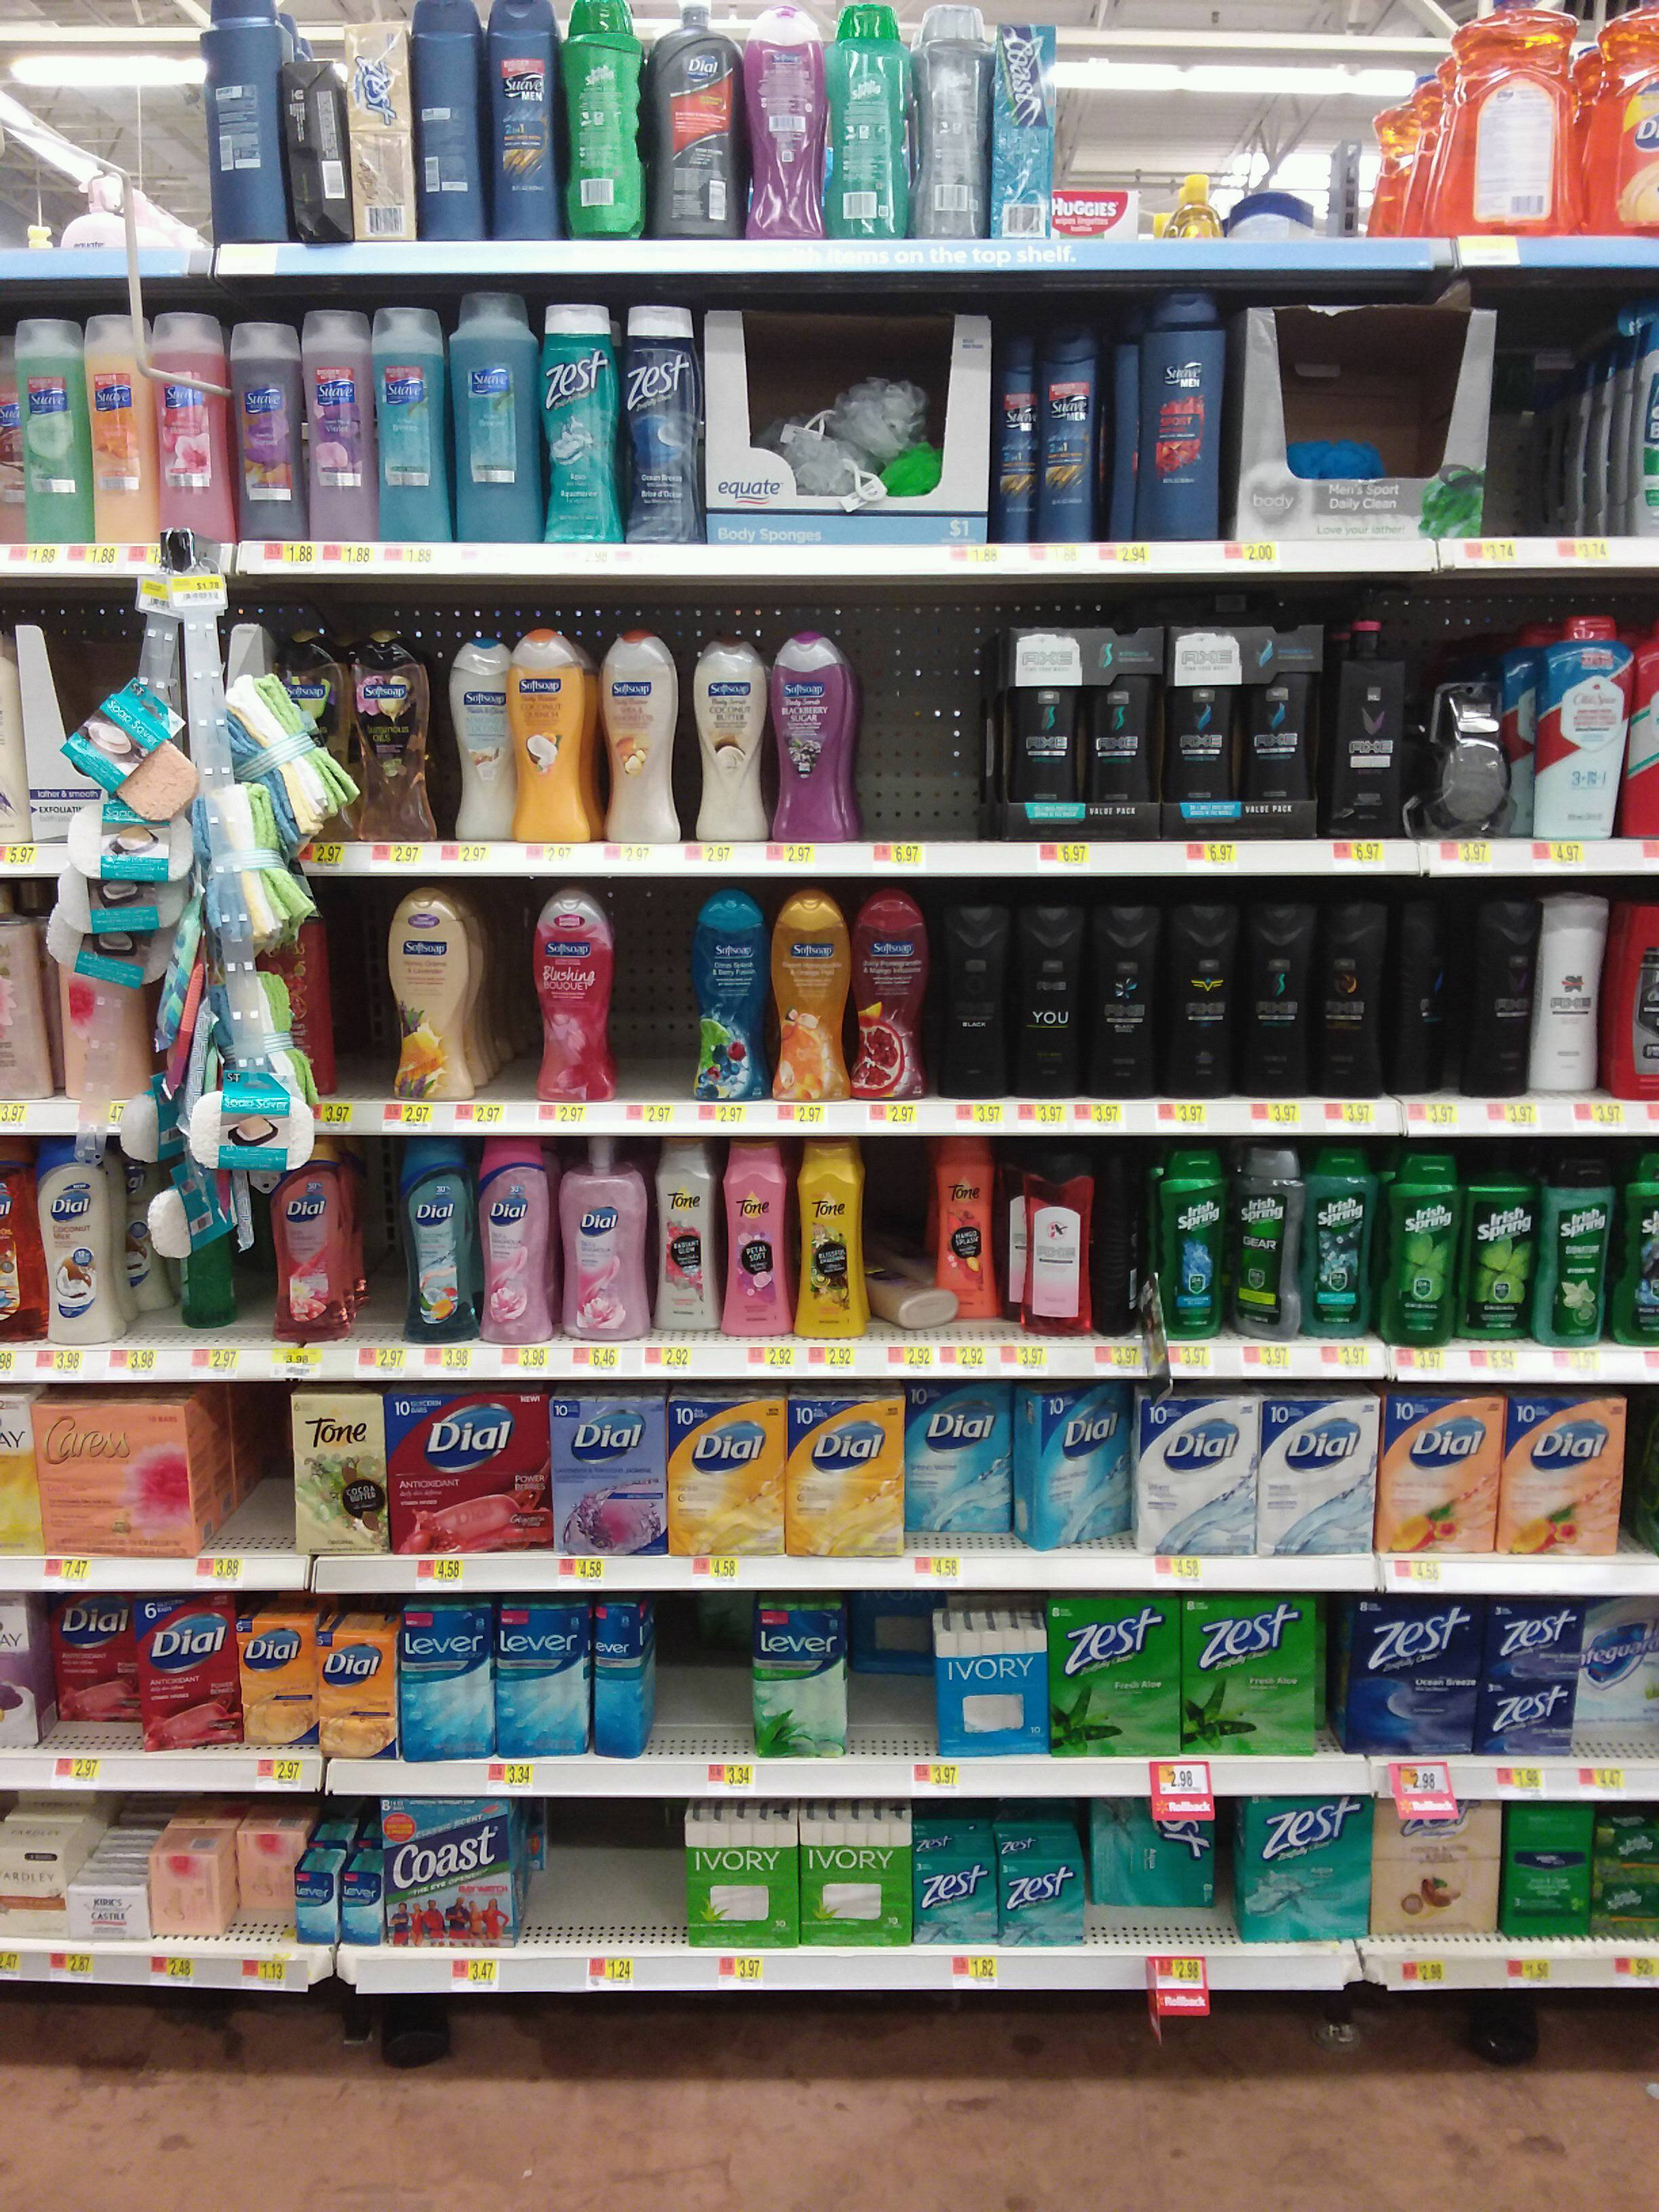Out-of-stock: (615, 881, 702, 1134)
